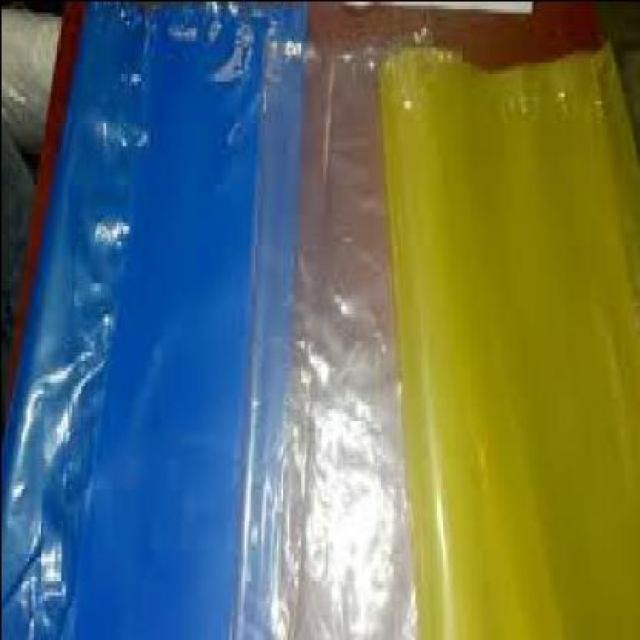PLASTIC: (2, 2, 306, 639), (379, 48, 640, 639), (233, 27, 462, 636)
